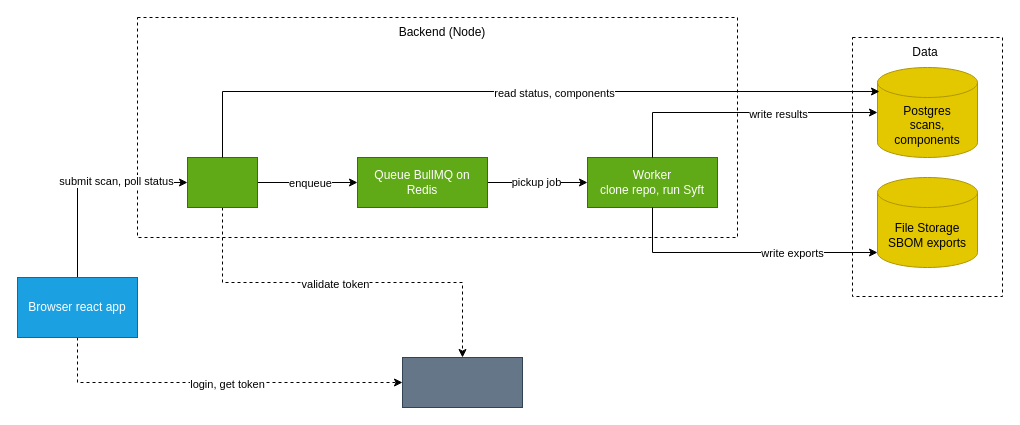
Some shapes in this 1020 by 425 pixel diagram are drawn without their labels. Here are the shapes that lost their labels. From the top down, the centre of each, then its label:
point 222,182: REST API
point 462,382: Keycloack auth, users
